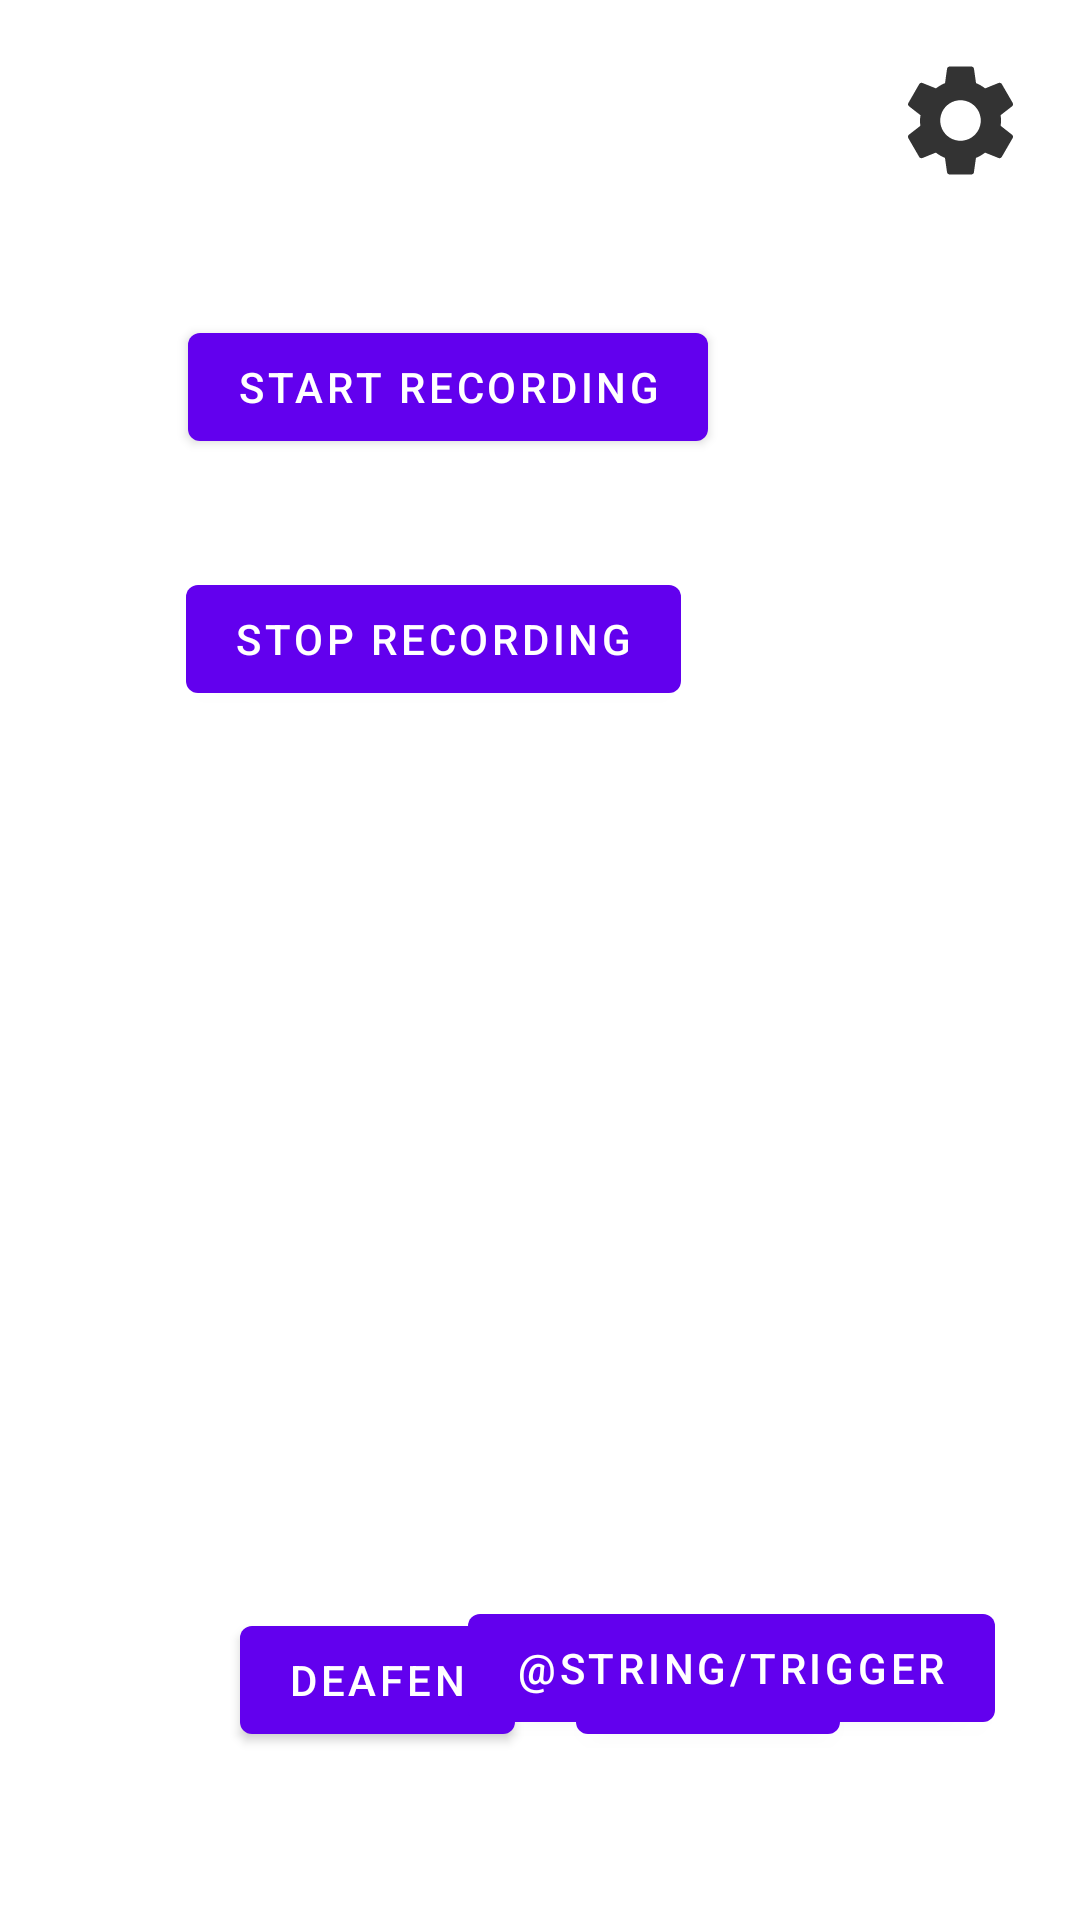

Screen size 1080 x 1920. Icon name, then its center in pixels as [x,y]:
settings: [960,120]
